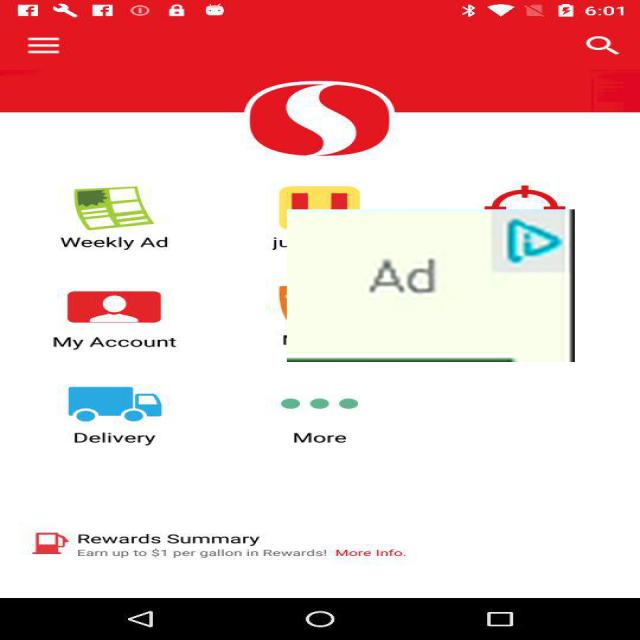sneaking: (287, 209, 575, 362)
